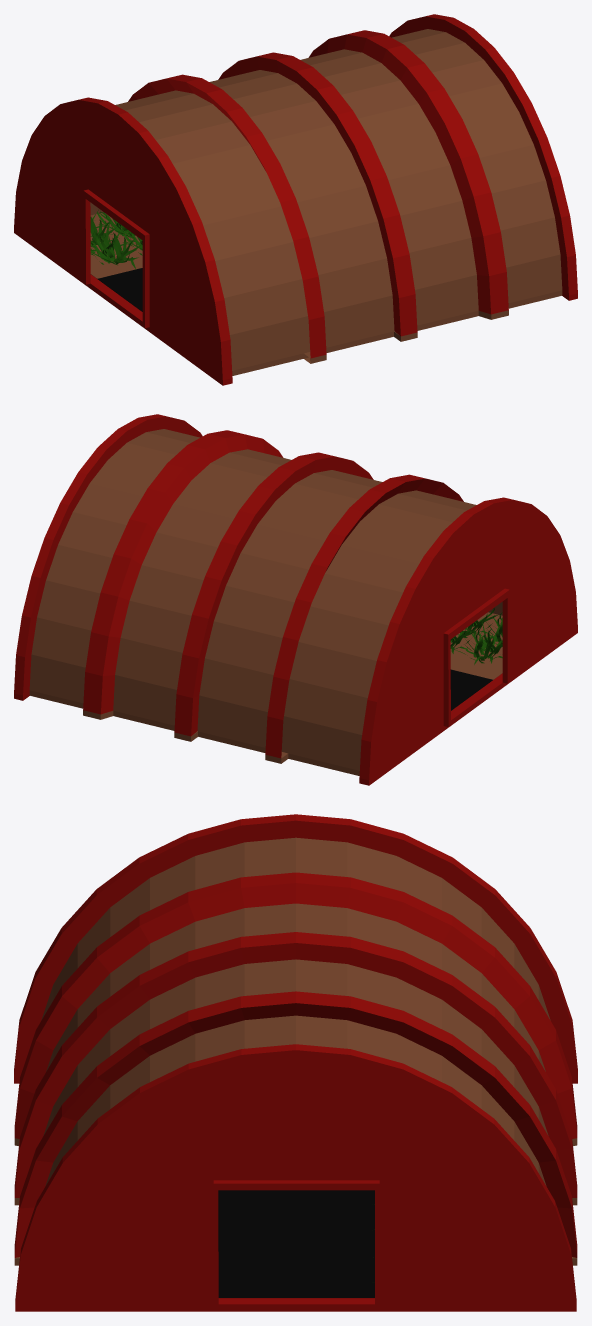
Rendered from yeni-sera2.fbx.
3 views of the same model, one above another, from view 1: azimuth 30°, elevation 25°; view 2: azimuth 150°, elevation 25°; view 3: azimuth 270°, elevation 25° (orthographic). The views are drawn at different scales.
Visible parts, largest first — view 1: Cylinder; view 2: Cylinder; view 3: Cylinder.
Part boxes in pixels (left/top/right/bottom): Cylinder: left=14, top=14, right=577, bottom=385; Cylinder: left=14, top=414, right=577, bottom=785; Cylinder: left=14, top=814, right=577, bottom=1311.
Size of the model in its own units: 217 by 110 by 215.
